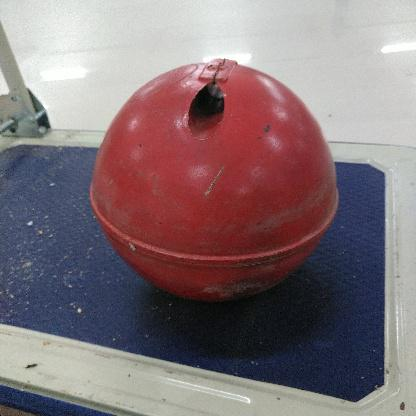red_buoy: (90, 52, 342, 308)
